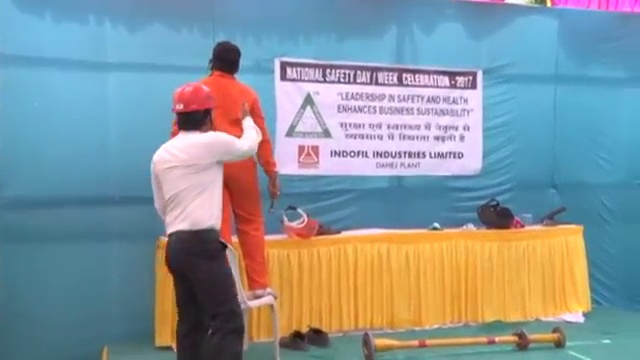helmet: (171, 81, 218, 112)
helmet_off: (207, 42, 243, 78)
helmet_on: (170, 82, 218, 133)
person: (158, 80, 264, 357), (188, 34, 287, 300)
